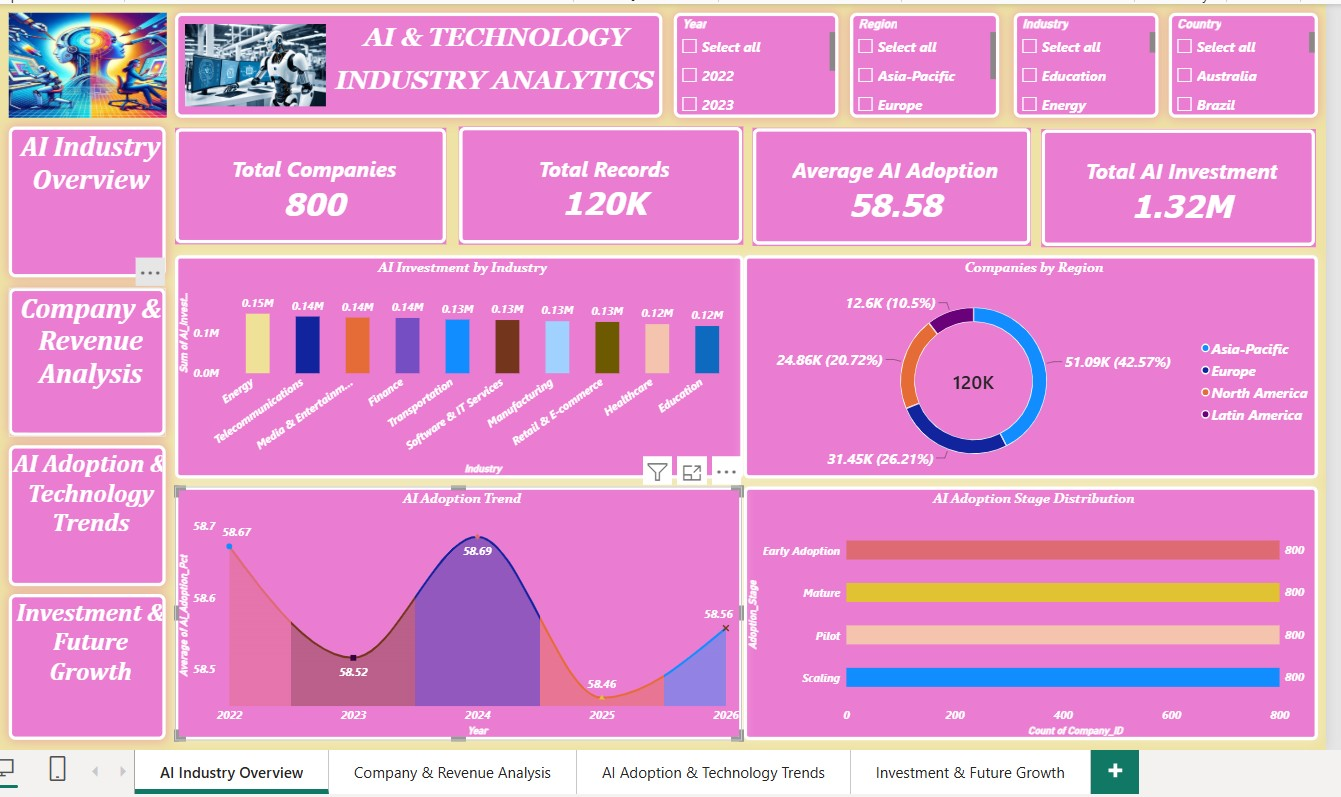

The page's visual inventory and layout, read from the dashboard file:
{"tool":"powerbi","page":{"name":"AI Industry Overview","canvas":[1920,1080],"ordinal":0},"visuals":[{"type":"textbox","box":[253.4,12.7,705.8,152],"z":0},{"type":"cardVisual","fields":{"Data":["AI_Industry_Data.Total Companies"]},"box":[253.2,179.1,393.1,168.8],"z":1000},{"type":"cardVisual","fields":{"Data":["AI_Industry_Data.Total Records"]},"box":[664.8,177,411.7,170.8],"z":2000},{"type":"cardVisual","fields":{"Data":["AI_Industry_Data.Average AI Adoption"]},"box":[1088.9,179.1,403.4,170.8],"z":3000},{"type":"cardVisual","fields":{"Data":["AI_Industry_Data.Total AI Investment"]},"box":[1506.7,181.1,397.3,170.8],"z":4000},{"type":"clusteredColumnChart","title":"AI Investment by Industry","fields":{"Category":["AI_Industry_Data.Industry"],"Y":["Sum(AI_Industry_Data.AI_Investment_USD_M)"]},"box":[253.1,363.2,823.6,322.8],"z":5000},{"type":"donutChart","title":"Companies by Region","fields":{"Category":["AI_Industry_Data.Region"],"Y":["CountNonNull(AI_Industry_Data.Company_ID)"]},"box":[1076.7,363.2,830.9,322.8],"z":6000},{"type":"clusteredBarChart","title":"AI Adoption Stage Distribution","fields":{"Category":["AI_Industry_Data.Adoption_Stage"],"Y":["Count(AI_Industry_Data.Company_ID)"]},"box":[1076.7,698.8,830.9,366.8],"z":7000},{"type":"areaChart","title":"AI Adoption Trend","fields":{"Category":["AI_Industry_Data.Date.Variation.Date Hierarchy.Year"],"Y":["Avg(AI_Industry_Data.AI_Adoption_Pct)"]},"box":[253.1,698.8,821.7,366.8],"z":8000},{"type":"slicer","fields":{"Values":["AI_Industry_Data.Date.Variation.Date Hierarchy.Year"]},"box":[975.6,12.3,238.8,152.3],"z":9000},{"type":"slicer","fields":{"Values":["AI_Industry_Data.Region"]},"box":[1230.9,12.3,216.1,152.3],"z":10000},{"type":"actionButton","title":"AI Industry Overview","box":[12.8,177.9,227.4,218.3],"z":11000},{"type":"slicer","fields":{"Values":["AI_Industry_Data.Country"]},"box":[1691.9,12.3,216.1,152.3],"z":12000},{"type":"actionButton","title":"Company & Revenue Analysis","box":[12.8,410.9,227.4,214.6],"z":13000},{"type":"actionButton","title":"AI Adoption & Technology Trends","box":[12.8,638.3,227.4,203.6],"z":14000},{"type":"actionButton","title":"Investment & Future Growth","box":[12.8,854.8,227.4,210.9],"z":15000},{"type":"slicer","fields":{"Values":["AI_Industry_Data.Industry"]},"box":[1467.6,12.3,209.9,152.3],"z":16000},{"type":"image","box":[267.6,28.8,203.8,119.4],"z":17000},{"type":"image","box":[12.3,12.3,228.5,152.3],"z":18000}]}

Visuals, with their boxes on the page's 1920x1080 design canvas (x1, y1, x2, y2). These are canvas units, not pixel positions in the 1341x797 screenshot, which may show the page scaled, cropped or inside an application window:
textbox: (253,13,959,165)
cardVisual - AI_Industry_Data.Total Companies: (253,179,646,348)
cardVisual - AI_Industry_Data.Total Records: (665,177,1076,348)
cardVisual - AI_Industry_Data.Average AI Adoption: (1089,179,1492,350)
cardVisual - AI_Industry_Data.Total AI Investment: (1507,181,1904,352)
"AI Investment by Industry" clusteredColumnChart: (253,363,1077,686)
"Companies by Region" donutChart: (1077,363,1908,686)
"AI Adoption Stage Distribution" clusteredBarChart: (1077,699,1908,1066)
"AI Adoption Trend" areaChart: (253,699,1075,1066)
slicer - AI_Industry_Data.Date.Variation.Date Hierarchy.Year: (976,12,1214,165)
slicer - AI_Industry_Data.Region: (1231,12,1447,165)
"AI Industry Overview" actionButton: (13,178,240,396)
slicer - AI_Industry_Data.Country: (1692,12,1908,165)
"Company & Revenue Analysis" actionButton: (13,411,240,626)
"AI Adoption & Technology Trends" actionButton: (13,638,240,842)
"Investment & Future Growth" actionButton: (13,855,240,1066)
slicer - AI_Industry_Data.Industry: (1468,12,1678,165)
image: (268,29,471,148)
image: (12,12,241,165)
